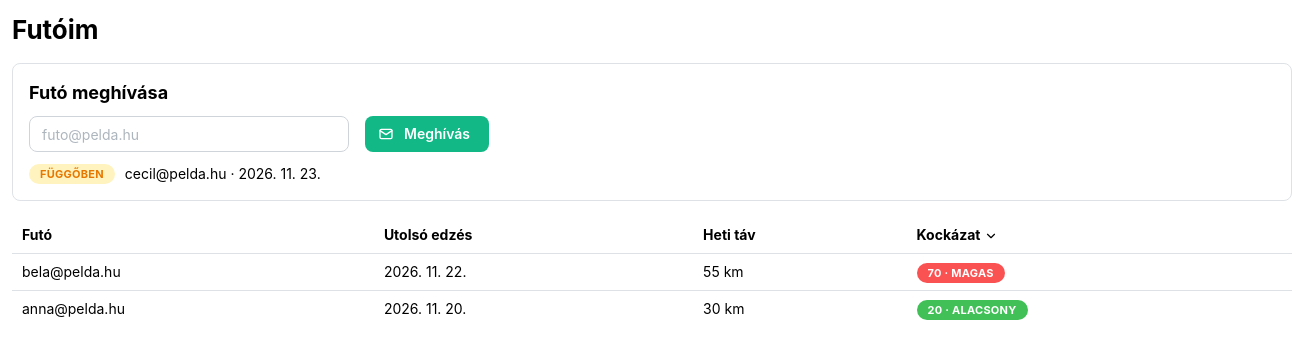
Test: CoachOverviewPage › a futókat kockázat szerint rendezi, a sorra kattintva a futó oldalára visz
Expected: the text "70 · Magas" is shown, 928,264 -> 994,282
Expected: the text "cecil@pelda.hu · 2026. 11. 23." is shown, 125,164 -> 321,184
What coordinates should you click on to do the following:
click the button "Kockázat"
I would click on:
 (958, 236)
Its box is 917,226 -> 998,246.
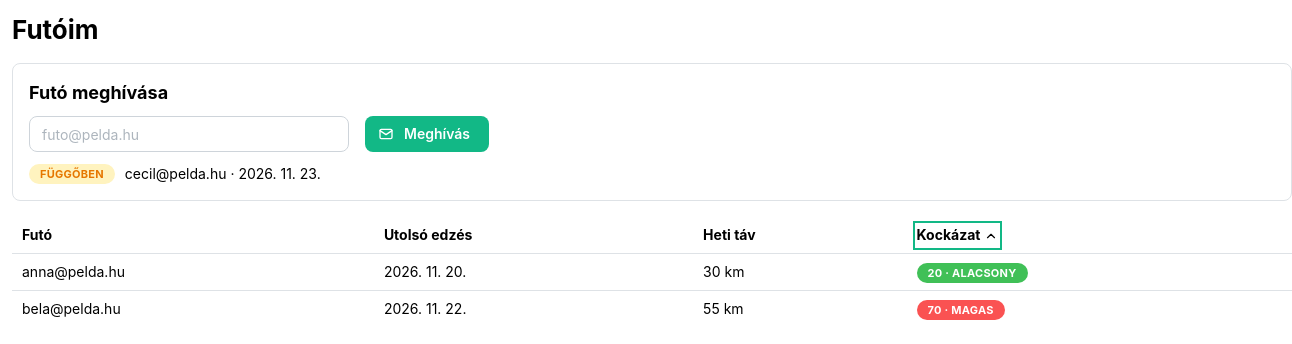
What coordinates should you click on to do the following:
click the text "bela@pelda.hu"
I would click on:
 (71, 309)
Its box is 12,291 -> 374,327.
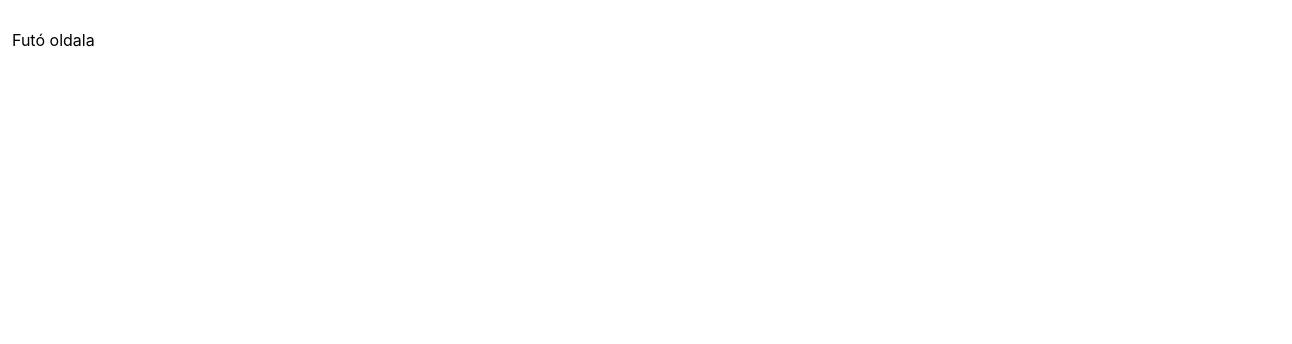
Result: the text "Futó oldala" is shown at 12,30 -> 95,50
